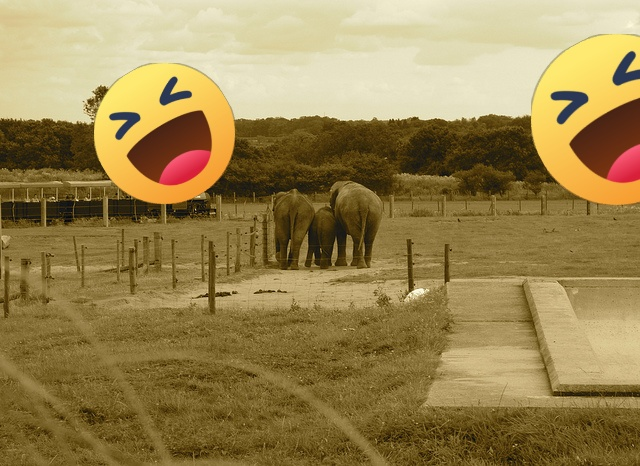haha: (94, 63, 235, 204), (531, 34, 640, 205)
